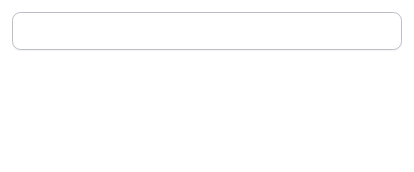
Test: NumericInput in React state › writes English with a point
In the field named "amount": point(207, 31) [12,12,402,50], type "40,5"
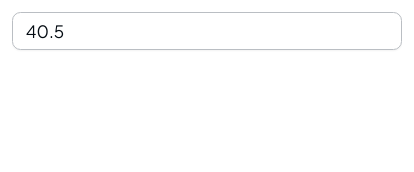
Check: the field named "amount" holds "40.5", box [12,12,402,50]
